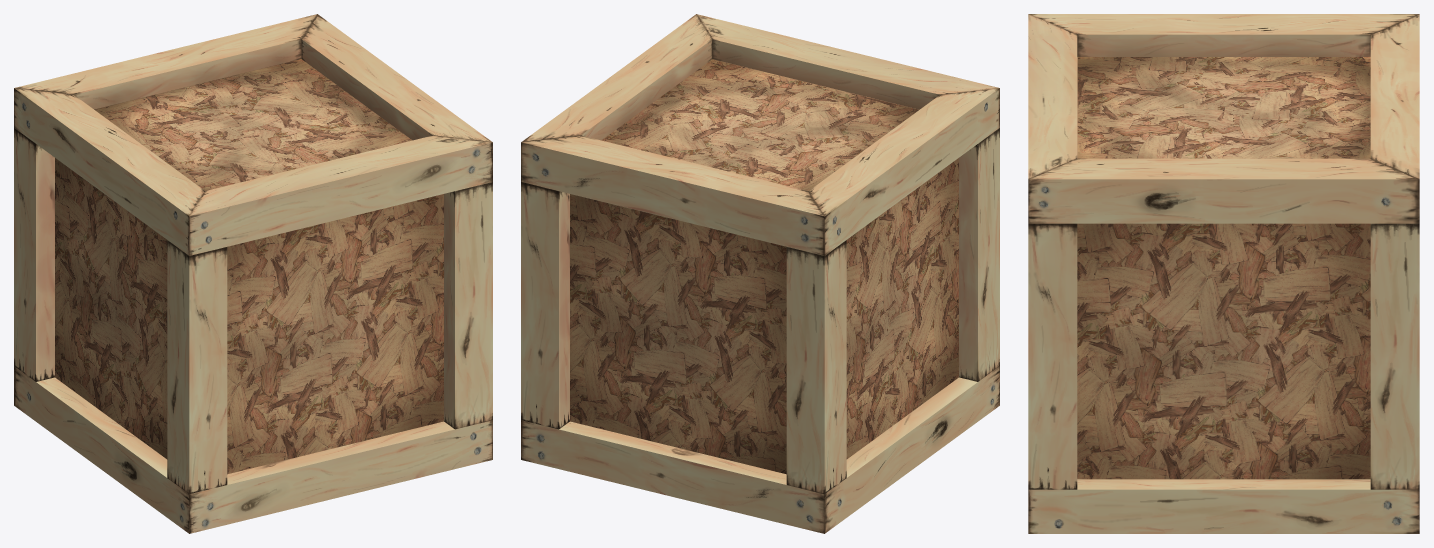
The model's file is PT_Crate_Seperated.fbx.
The picture shows the model from 3 angles, left to right: view 1: azimuth 30°, elevation 25°; view 2: azimuth 150°, elevation 25°; view 3: azimuth 270°, elevation 25°; orthographic projection. The views are drawn at different scales.
Parts seen in each view (by area): view 1: Lid_Top_PT, Front_PT, Side_L_PT, Lid_Bottom_PT, Column_3_PT, Column_2_PT, Column_4_PT; view 2: Lid_Top_PT, Back_PT, Side_L_PT, Lid_Bottom_PT, Column_4_PT, Column_1_PT, Column_3_PT; view 3: Lid_Top_PT, Side_R_PT, Lid_Bottom_PT, Column_1_PT, Column_2_PT.
Boxes of the visible parts, box(x1,y1,x2,y2) form: Lid_Top_PT: box(14, 14, 492, 255); Front_PT: box(227, 194, 443, 474); Side_L_PT: box(55, 158, 167, 459); Lid_Bottom_PT: box(14, 366, 492, 533); Column_3_PT: box(167, 240, 227, 494); Column_2_PT: box(444, 182, 492, 429); Column_4_PT: box(14, 128, 54, 381); Lid_Top_PT: box(521, 14, 999, 255); Back_PT: box(570, 194, 786, 474); Side_L_PT: box(846, 158, 958, 459); Lid_Bottom_PT: box(521, 366, 999, 533); Column_4_PT: box(786, 240, 846, 494); Column_1_PT: box(521, 182, 569, 429); Column_3_PT: box(959, 128, 999, 381); Lid_Top_PT: box(1028, 14, 1419, 223); Side_R_PT: box(1077, 223, 1370, 479); Lid_Bottom_PT: box(1028, 479, 1419, 533); Column_1_PT: box(1370, 223, 1419, 489); Column_2_PT: box(1028, 223, 1077, 489).
Size of the model in its own units: 100 by 100 by 100.
